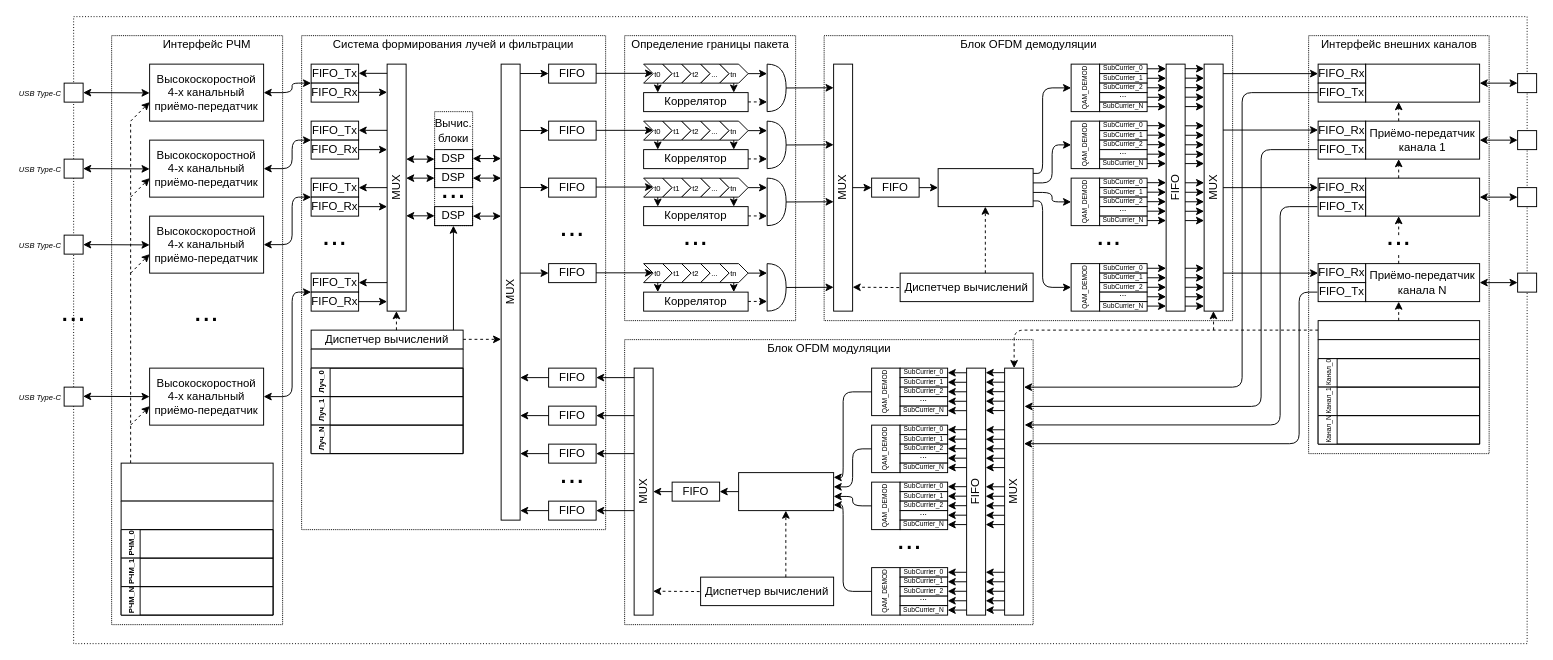
This 1553x660 diagram has some shape labels left out. The shapes that lost their labels are listed below. From the top down, each one's box as (x1, y1, x2, y2) in pixels, then its label:
(1365, 63, 1480, 102): Приёмо-передатчик канала 0
(937, 168, 1033, 207): FFT Блок
(1365, 177, 1480, 216): Приёмо-передатчик канала 2
(1317, 320, 1480, 340): Диспетчер каналов
(310, 348, 463, 454): Таблица коэффициентов
(1317, 339, 1480, 444): Таблица каналов
(120, 462, 273, 501): Контроль подключения радиочастотных модулей
(738, 472, 834, 511): IFFT Блок
(120, 500, 273, 615): Таблица калибровочных значений РЧ модулей
